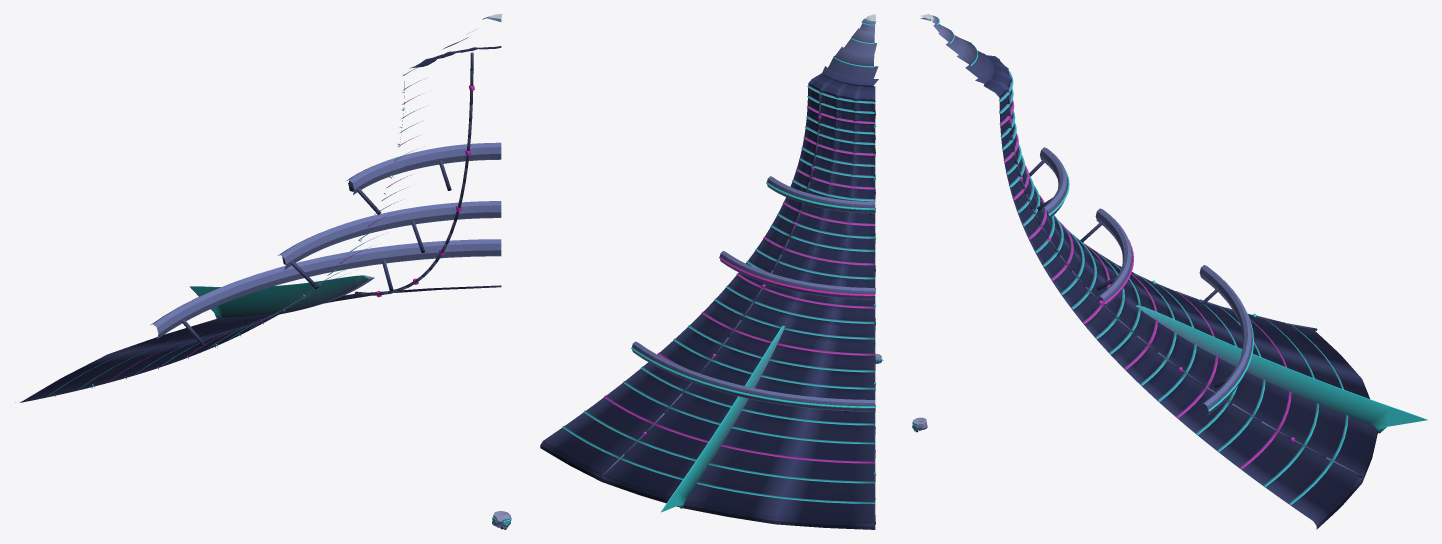
The model's file is core-s1-CnebD8I8.glb.
The picture shows the model from 3 angles, left to right: view 1: azimuth 30°, elevation 25°; view 2: azimuth 150°, elevation 25°; view 3: azimuth 270°, elevation 25°; orthographic projection. The views are drawn at different scales.
Visible parts, largest first — view 1: sc_landmark_1; view 2: sc_landmark_1; view 3: sc_landmark_1.
Part boxes in pixels (x1=…): sc_landmark_1: x1=15, y1=14, x2=502, y2=402; sc_landmark_1: x1=540, y1=14, x2=878, y2=529; sc_landmark_1: x1=920, y1=14, x2=1427, y2=529.
Bounding box in the file's own units: 376 × 377 × 423.
